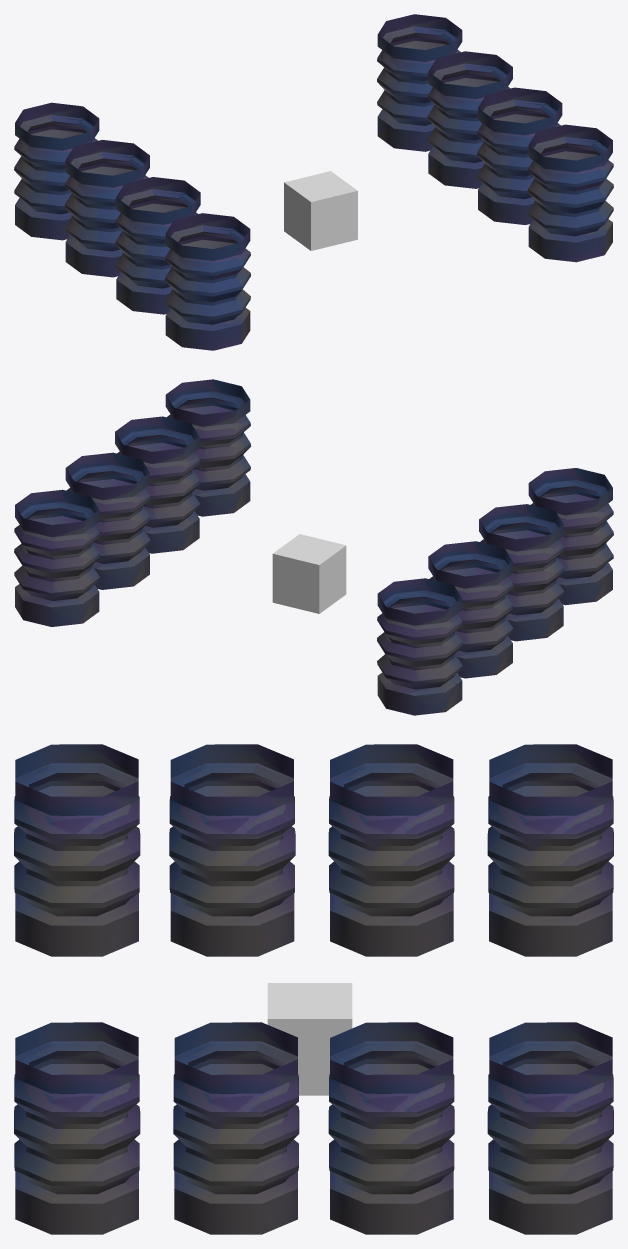
File: battlescence-1-pipe2.fbx
The picture shows the model from 3 angles, top to bottom: view 1: azimuth 30°, elevation 25°; view 2: azimuth 150°, elevation 25°; view 3: azimuth 270°, elevation 25°; orthographic projection. The views are drawn at different scales.
Visible parts, largest first — view 1: Plane.034, Plane.030, Plane.027, Plane.032, Plane.031, Plane.029, Plane.028, Plane.033, battlescence-1-pipe2; view 2: Plane.031, Plane.027, Plane.030, Plane.033, Plane.032, Plane.028, Plane.029, Plane.034, battlescence-1-pipe2; view 3: Plane.033, Plane.034, Plane.031, Plane.027, Plane.030, Plane.028, Plane.032, Plane.029, battlescence-1-pipe2.
Part boxes in pixels (x1,y1,x2,y2): Plane.034: (165,213,250,350); Plane.030: (527,124,613,262); Plane.027: (377,14,462,151); Plane.032: (64,140,149,277); Plane.031: (14,102,99,240); Plane.029: (477,87,562,224); Plane.028: (427,51,512,188); Plane.033: (115,177,200,314); battlescence-1-pipe2: (284,171,357,250); Plane.031: (377,578,462,715); Plane.027: (14,489,100,626); Plane.030: (165,379,250,516); Plane.033: (479,504,564,641); Plane.032: (428,541,513,678); Plane.028: (65,452,150,589); Plane.029: (115,416,200,553); Plane.034: (528,468,613,605); battlescence-1-pipe2: (272,534,346,613); Plane.033: (169,744,295,956); Plane.034: (14,744,140,956); Plane.031: (487,744,613,956); Plane.027: (487,1022,613,1234); Plane.030: (14,1022,140,1234); Plane.028: (328,1022,454,1234); Plane.032: (328,744,454,956); Plane.029: (173,1022,299,1234); battlescence-1-pipe2: (267,983,352,1095).
Size of the model in its own units: 1436 by 332 by 1099.
